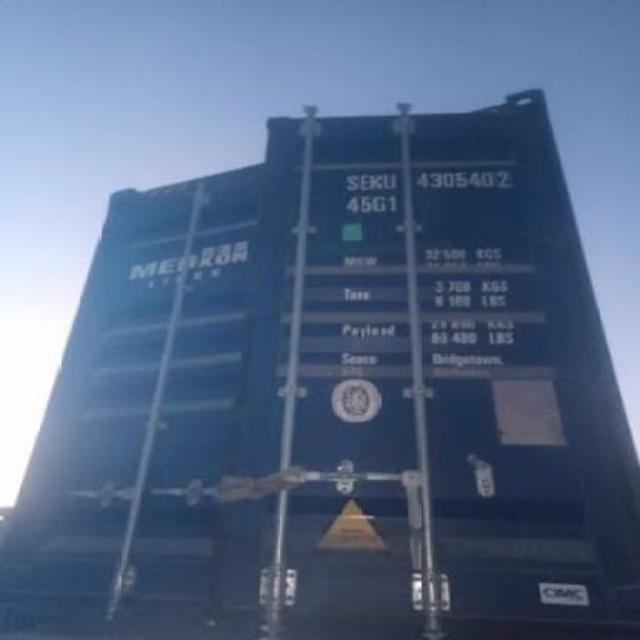0: (481, 164, 494, 193), (441, 166, 454, 194)
2: (494, 164, 512, 192)
3: (430, 166, 442, 192)
4: (416, 166, 429, 192), (468, 166, 480, 194)
5: (454, 164, 468, 192)
E: (356, 170, 369, 194)
K: (368, 168, 382, 192)
S: (346, 168, 358, 194)
U: (382, 166, 396, 192)
